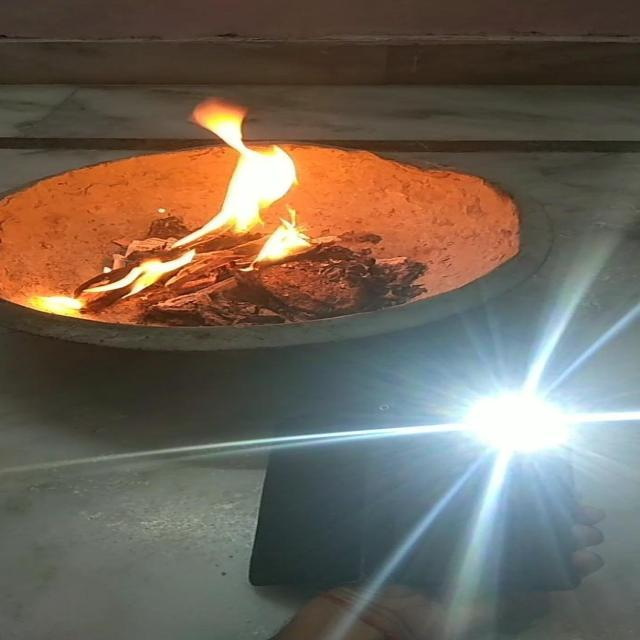smoke: (42, 97, 328, 312)
